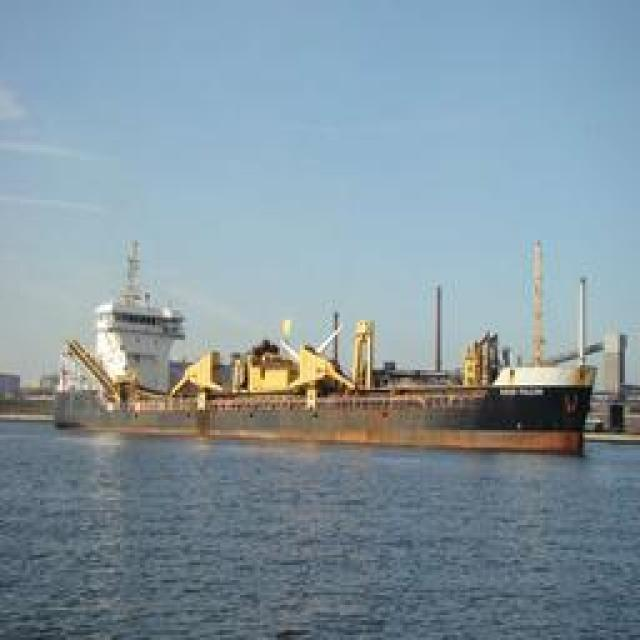CIV_Ship: (65, 348, 593, 446)
